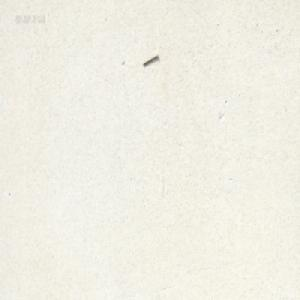Bolt: (142, 53, 158, 65)
